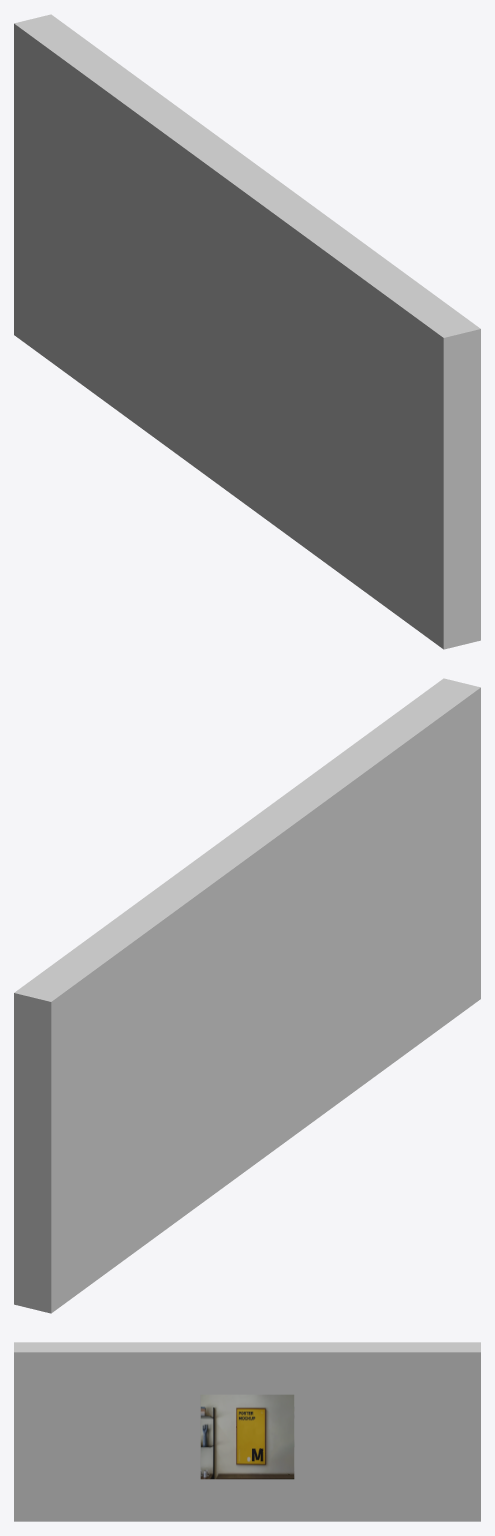
The model's file is wall.dae.
The picture shows the model from 3 angles, top to bottom: view 1: azimuth 30°, elevation 25°; view 2: azimuth 150°, elevation 25°; view 3: azimuth 270°, elevation 25°; orthographic projection. The views are drawn at different scales.
Parts seen in each view (by area): view 1: Cube; view 2: Cube; view 3: Cube, Plane.
Part boxes in pixels (x1=…): Cube: x1=14, y1=14, x2=480, y2=649; Cube: x1=14, y1=678, x2=480, y2=1313; Cube: x1=14, y1=1342, x2=480, y2=1521; Plane: x1=200, y1=1394, x2=294, y2=1479.
Size of the model in its own units: 0.501 by 10 by 4.
Materials: 1 (1 with a texture image).
